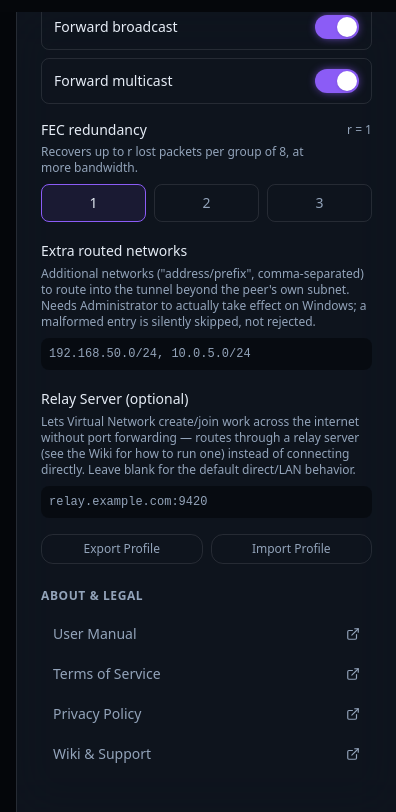
SettingsOverlay — JSON profile import/export › imports extraRoutes from a profile that includes them, and reflects them in the text field
This screenshot has width=396, height=812.
(page scrolled)
Click the button with test id "settings-import-profile". click: (291, 549)
box: [210,534,372,564]
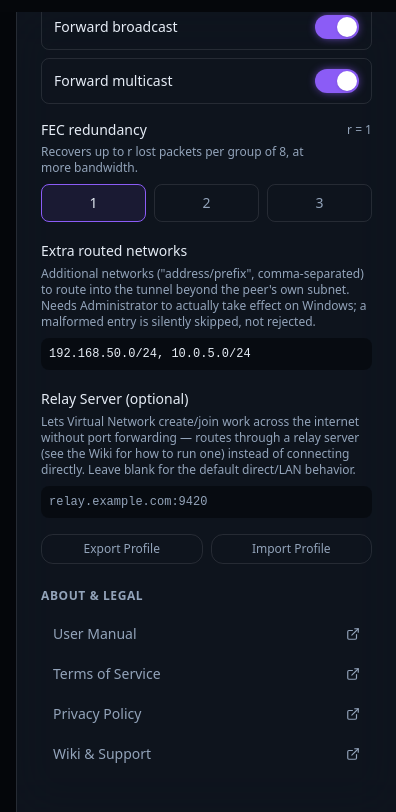
Check: the field with test id "settings-extra-routes" holds "192.168.50.0/24, 10.0.5.0/24", box [41,338,372,370]
